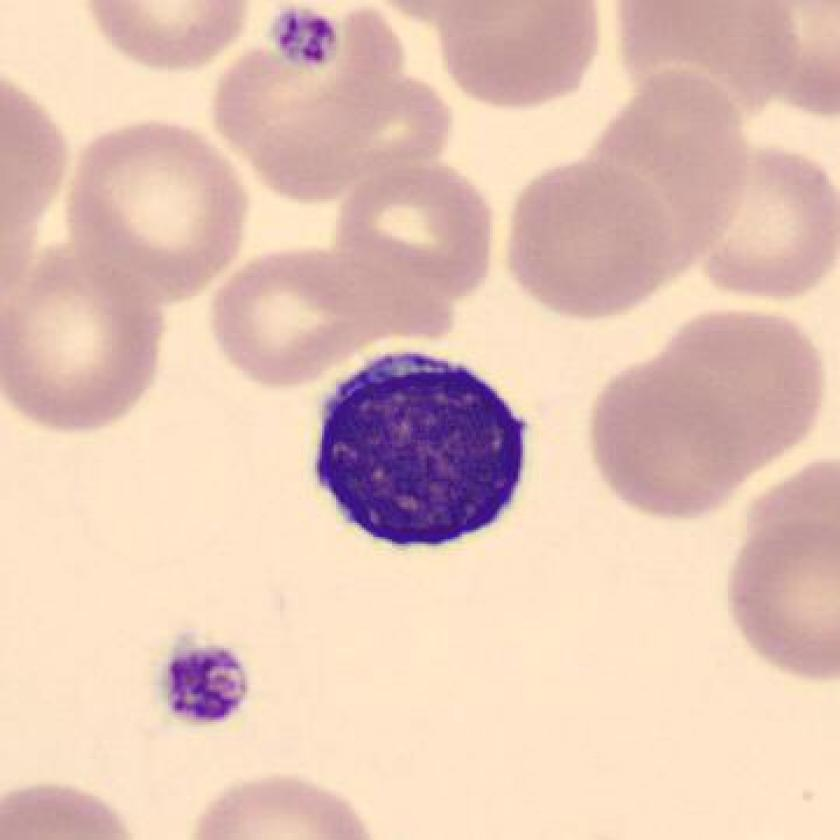lymphocyte: (297, 332, 547, 572)
